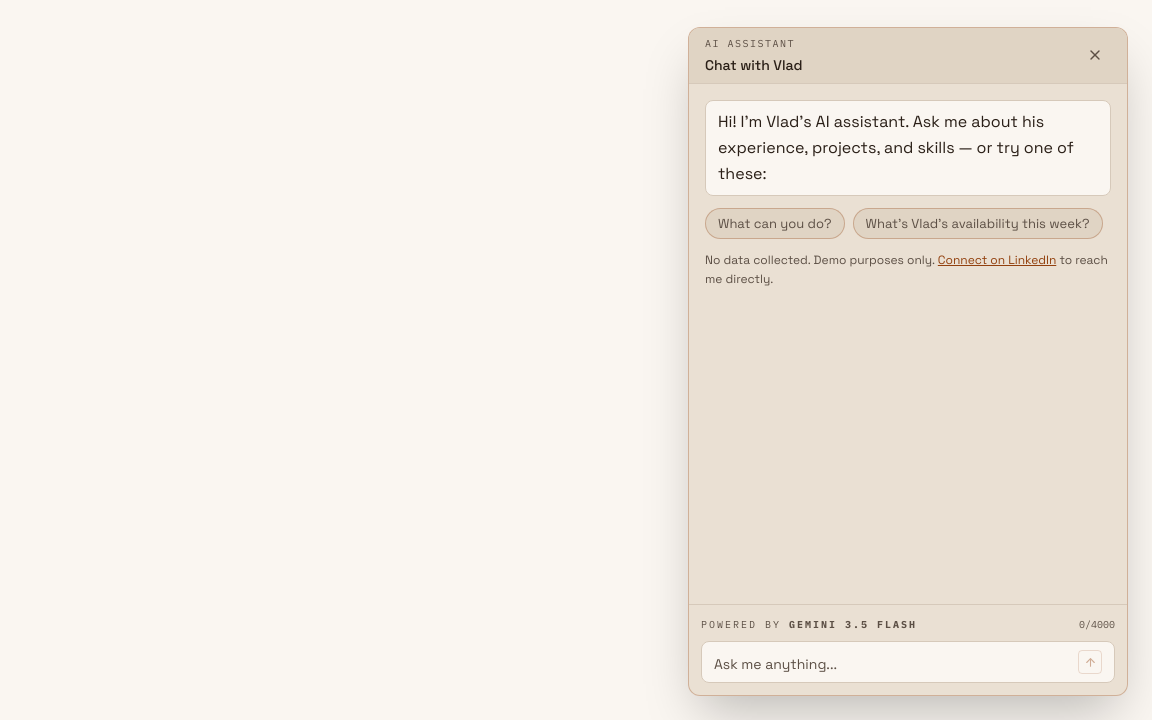
Test: ChatDrawer › always shows the character counter, tracking the typed length
This screenshot has width=1152, height=720.
Expected: the text "0/4000" is shown, x1=1079 y1=616 x2=1115 y2=633
Step 1. Type "hello" into the text box named "chat message" → point(892, 664), box x1=714 y1=654 x2=1070 y2=674
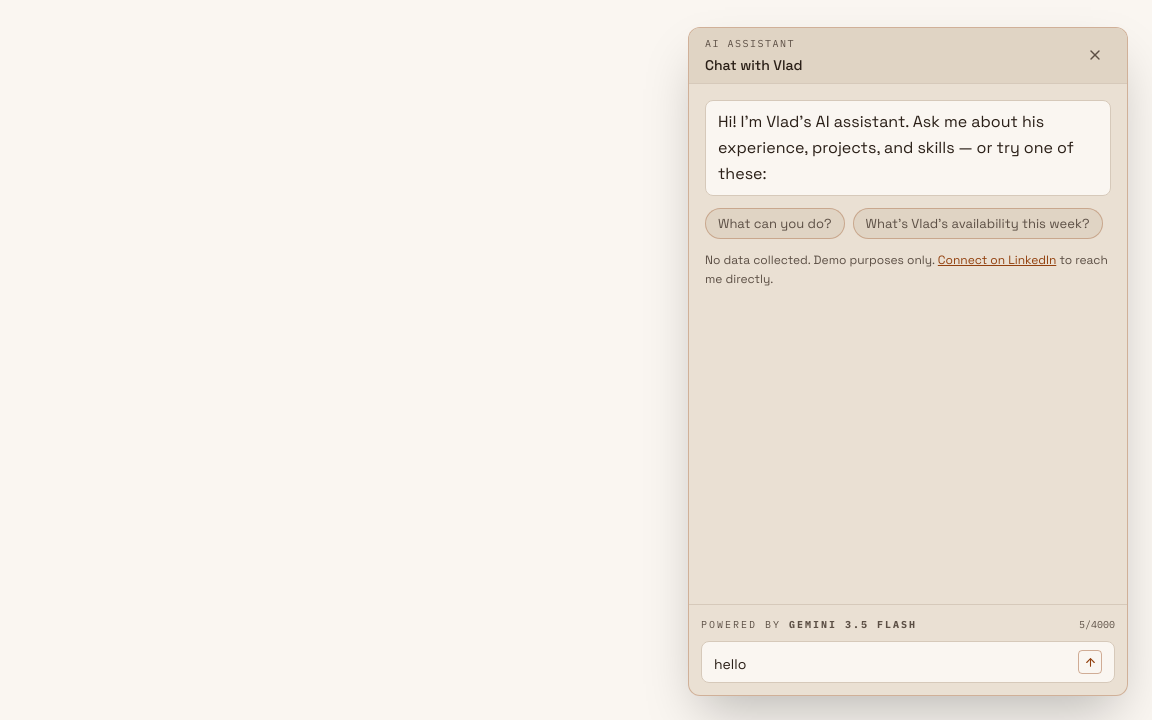
Now the text "5/4000" is shown, box x1=1079 y1=616 x2=1115 y2=633
